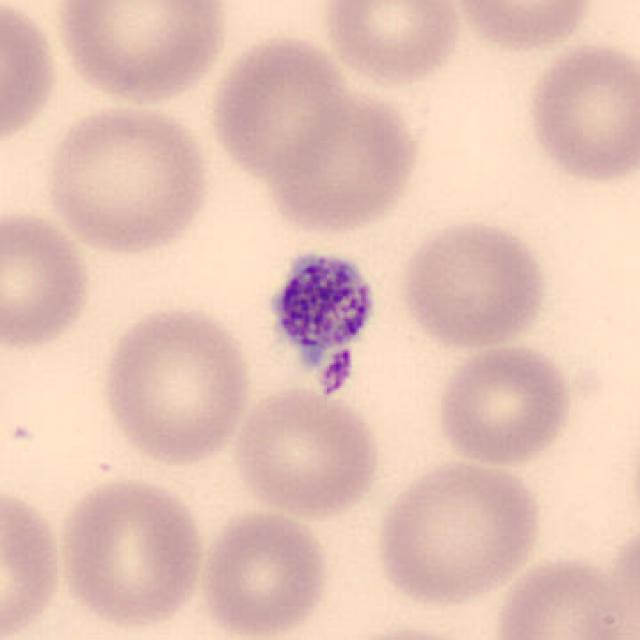Platelets: (260, 245, 380, 395)
RBC: (370, 453, 548, 610), (39, 100, 215, 258), (96, 300, 256, 469), (53, 473, 210, 631), (263, 85, 423, 236), (204, 30, 356, 187), (228, 382, 384, 522), (395, 215, 551, 353), (49, 0, 234, 109), (432, 340, 576, 469), (195, 506, 332, 638), (521, 37, 638, 187), (0, 204, 96, 354), (318, 0, 468, 88), (489, 550, 635, 640), (0, 481, 66, 640), (0, 0, 62, 159), (445, 0, 599, 53), (323, 622, 489, 640)
